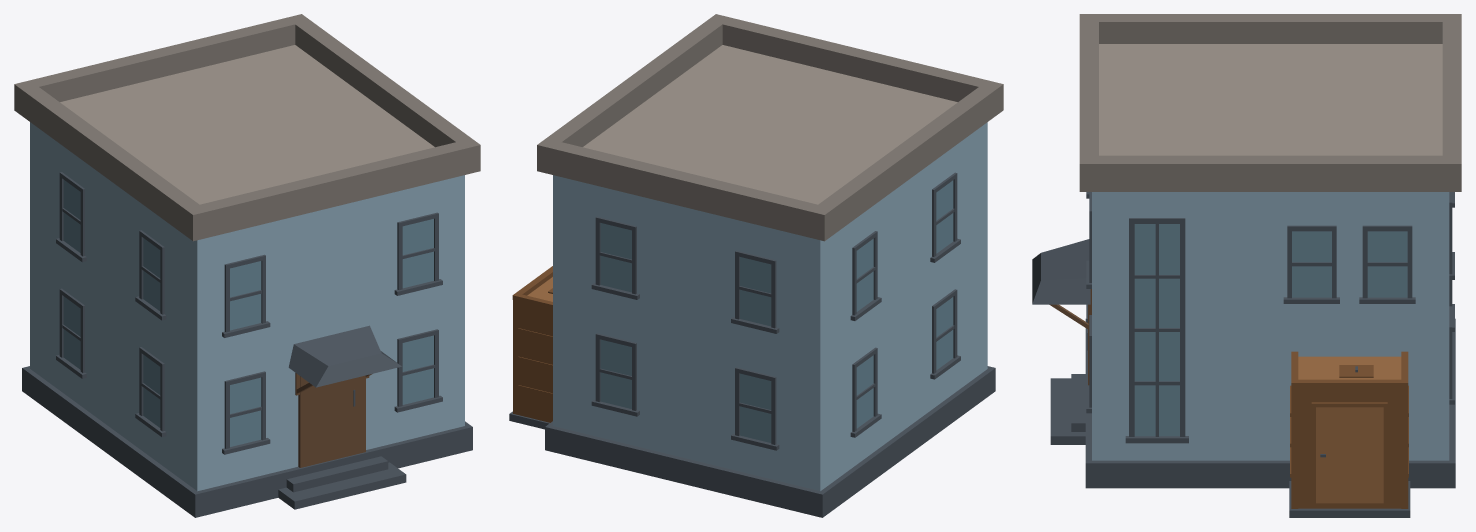
Rendered from small office.fbx.
The picture shows the model from 3 angles, left to right: view 1: azimuth 30°, elevation 25°; view 2: azimuth 150°, elevation 25°; view 3: azimuth 270°, elevation 25°; orthographic projection. The views are drawn at different scales.
Visible parts, largest first — view 1: Shed_Utility_Plinth; view 2: Shed_Utility_Plinth; view 3: Shed_Utility_Plinth.
Part boxes in pixels (box(x1,y1,x2,y2)): Shed_Utility_Plinth: box(14, 14, 480, 517); Shed_Utility_Plinth: box(509, 14, 1003, 517); Shed_Utility_Plinth: box(1032, 14, 1461, 517).
Size of the model in its own units: 610 by 525 by 625.
